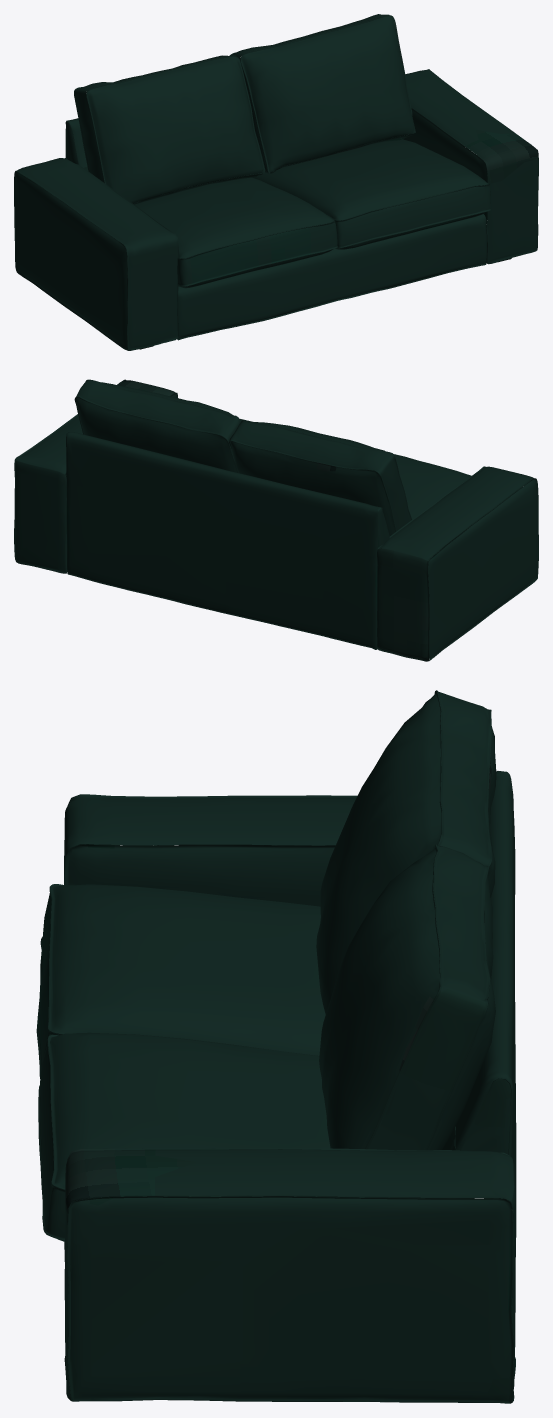
The model's file is cover-tallmyra-ciemnozielony.glb.
3 views of the same model, one above another, from view 1: azimuth 30°, elevation 25°; view 2: azimuth 150°, elevation 25°; view 3: azimuth 270°, elevation 25° (orthographic). The views are drawn at different scales.
Visible parts, largest first — view 1: Mesh_0; view 2: Mesh_0; view 3: Mesh_0.
Part boxes in pixels (x1,y1,x2,y2): Mesh_0: (14, 14, 538, 350); Mesh_0: (14, 379, 538, 661); Mesh_0: (36, 690, 516, 1403).
Bounding box in the file's own units: 1.9 × 0.8299 × 0.9501.
2 materials, 2 textured.
